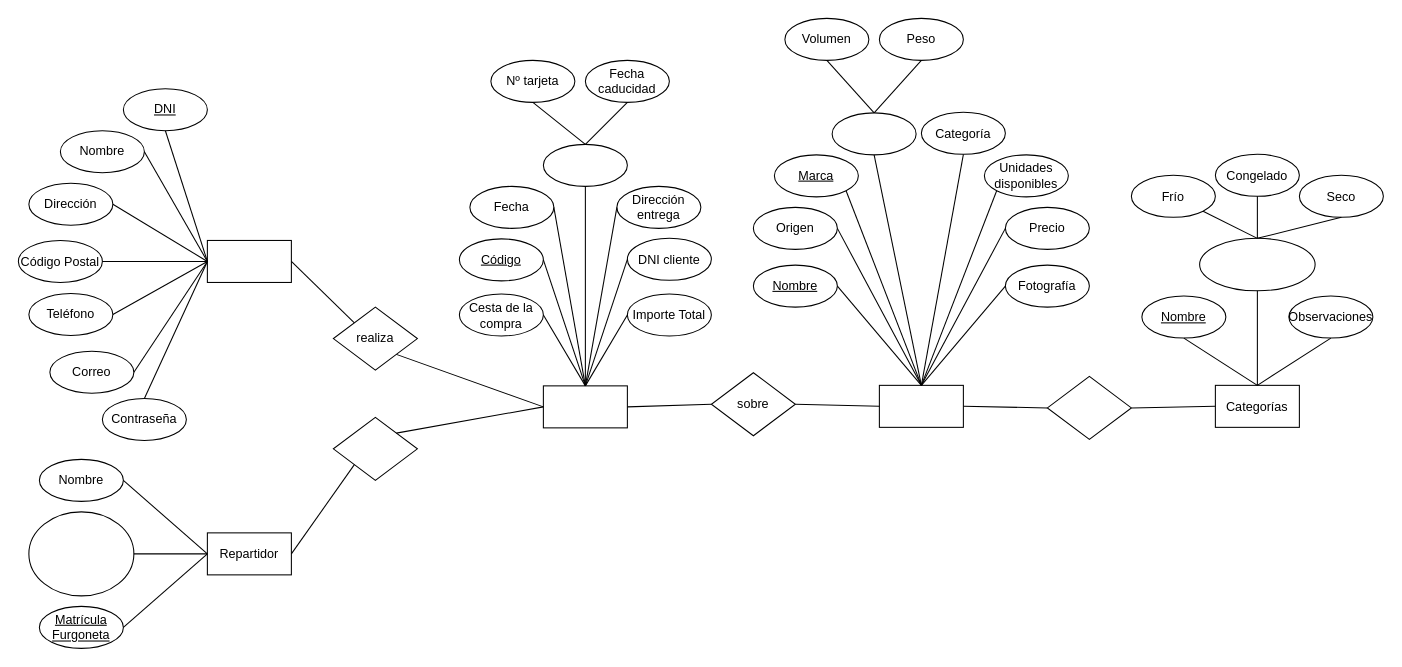
Image size: 1402x667. Some labels were removed from this diagram. Each missing label, with the box of its shape:
Cliente: (206, 239, 291, 282)
Condición de almacenamiento: (1199, 237, 1315, 291)
Códgo Postal de la zona en la que trabaja: (28, 511, 134, 596)
Datos de pago: (542, 143, 627, 186)
Dimensiones: (831, 112, 916, 155)
Distribuye: (332, 416, 417, 480)
organizados en: (1046, 375, 1131, 439)
Pedido: (542, 385, 627, 428)
Producto: (878, 384, 963, 427)
